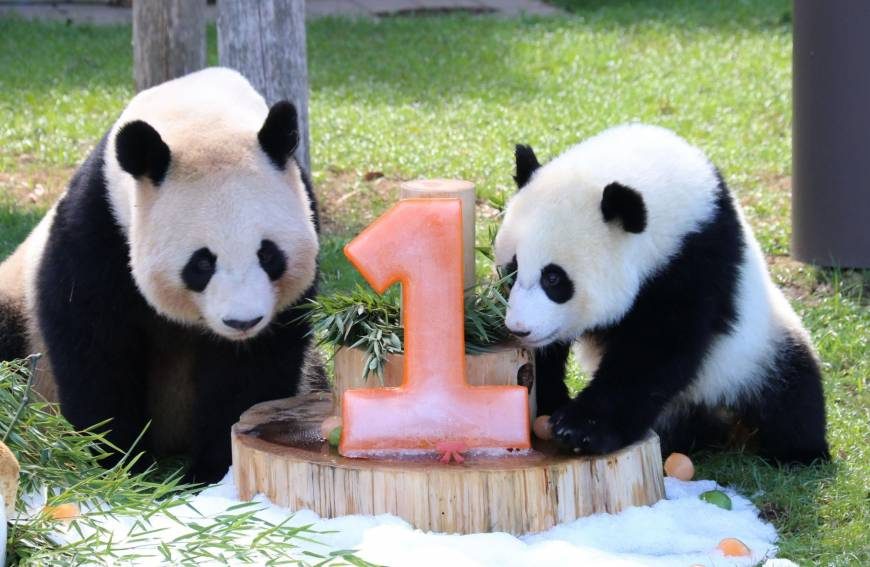panda: (15, 47, 375, 479), (487, 100, 838, 506)
